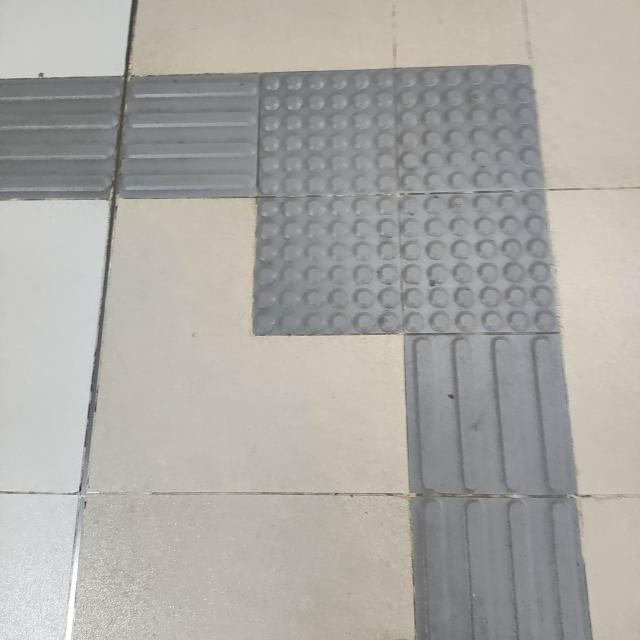kiri: (29, 37, 640, 403)
